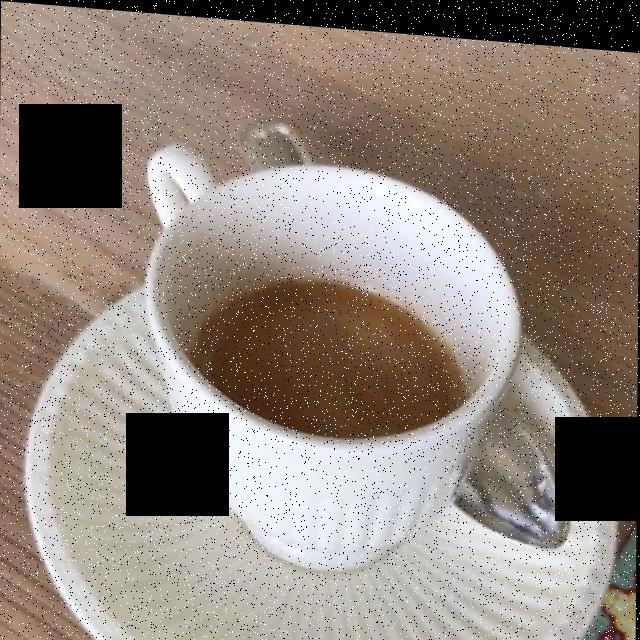coffee: (195, 276, 465, 429)
